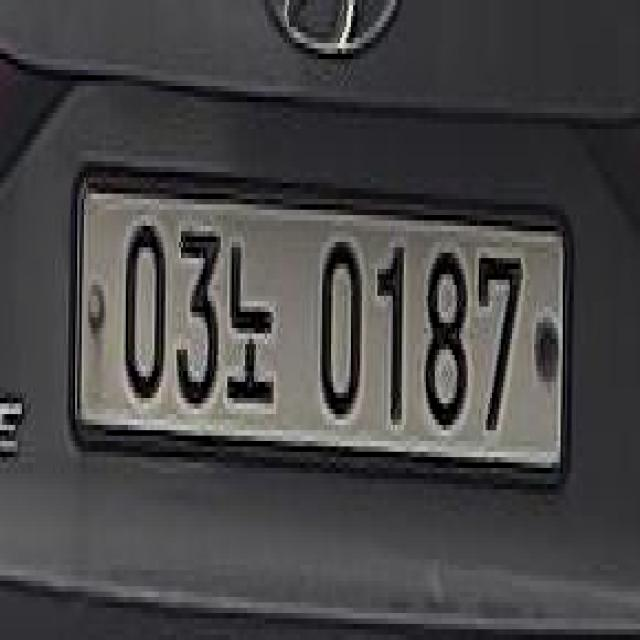illegal_plate: (72, 157, 572, 515)
